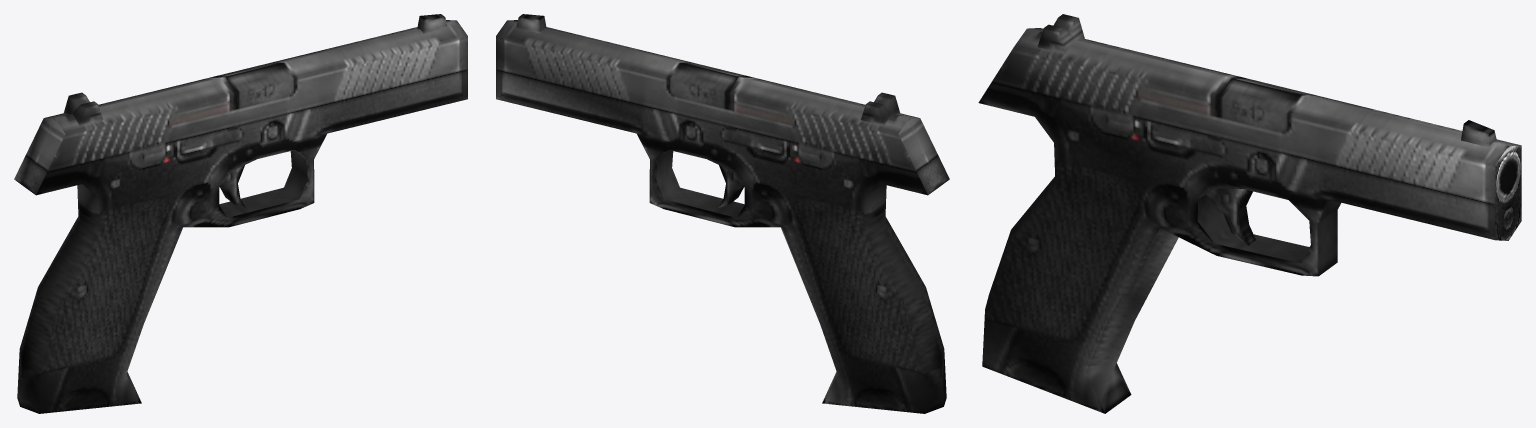
The model's file is lowpolyLebedev.fbx.
3 renders of one model, left to right at view 1: azimuth 30°, elevation 25°; view 2: azimuth 150°, elevation 25°; view 3: azimuth 330°, elevation 25°, orthographic. The views are drawn at different scales.
Visible parts, largest first — view 1: Cube; view 2: Cube; view 3: Cube.
Part boxes in pixels (<box>): Cube: <box>14,14,467,413</box>; Cube: <box>496,14,949,413</box>; Cube: <box>978,14,1521,413</box>.
Size of the model in its own units: 316 by 212 by 27.4.
Materials: 1 (1 with a texture image).
